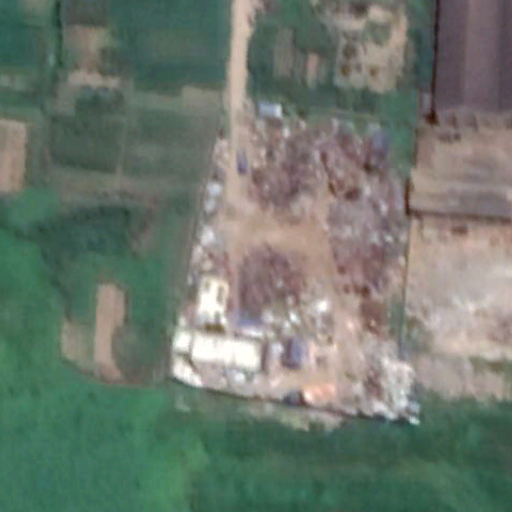msw: (193, 120, 412, 421)
